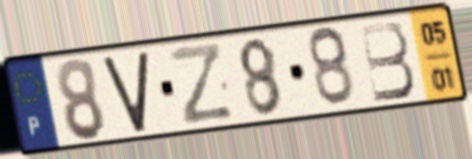8: (55, 55, 107, 144), (305, 25, 357, 112), (236, 35, 286, 119)
B: (356, 19, 419, 105)
V: (100, 47, 151, 136)
Z: (166, 40, 237, 129)
